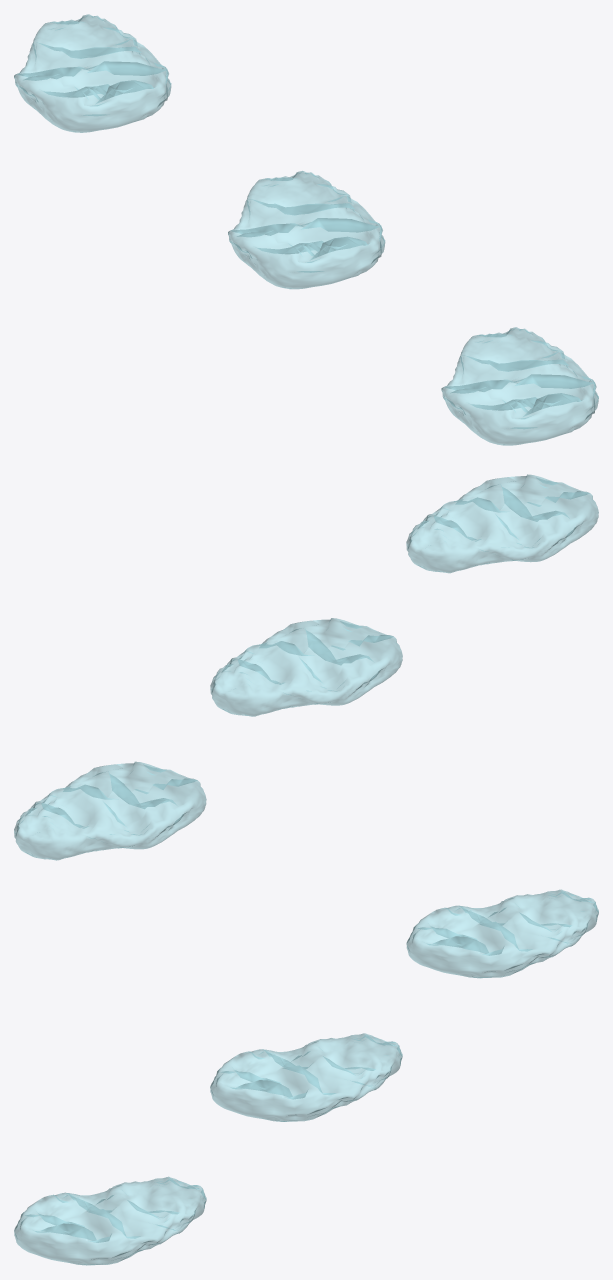
Rendered from vakuola Main.glb.
The picture shows the model from 3 angles, top to bottom: view 1: azimuth 30°, elevation 25°; view 2: azimuth 150°, elevation 25°; view 3: azimuth 330°, elevation 25°; orthographic projection. The views are drawn at different scales.
Parts seen in each view (by area): view 1: Vakuola Main.001, Vakuola Main, Vakuola Main.002; view 2: Vakuola Main.002, Vakuola Main, Vakuola Main.001; view 3: Vakuola Main, Vakuola Main.001, Vakuola Main.002.
Part boxes in pixels (x1=…): Vakuola Main.001: x1=441, y1=327, x2=598, y2=445; Vakuola Main: x1=228, y1=171, x2=385, y2=289; Vakuola Main.002: x1=14, y1=14, x2=171, y2=132; Vakuola Main.002: x1=14, y1=761, x2=206, y2=860; Vakuola Main: x1=210, y1=618, x2=402, y2=716; Vakuola Main.001: x1=406, y1=474, x2=598, y2=573; Vakuola Main: x1=210, y1=1033, x2=402, y2=1121; Vakuola Main.001: x1=14, y1=1176, x2=206, y2=1265; Vakuola Main.002: x1=406, y1=889, x2=598, y2=978.
Size of the model in its own units: 1.01 by 0.3324 by 6.88.
